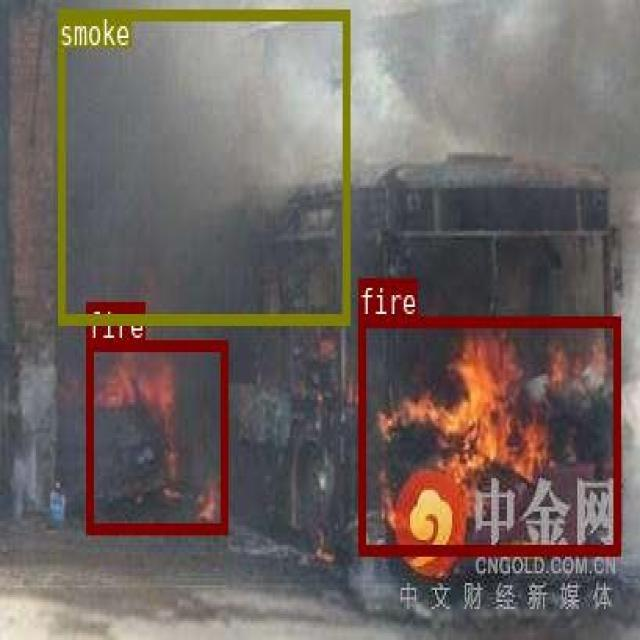fire: (358, 316, 620, 554), (85, 339, 226, 533)
smoke: (58, 9, 348, 322)
